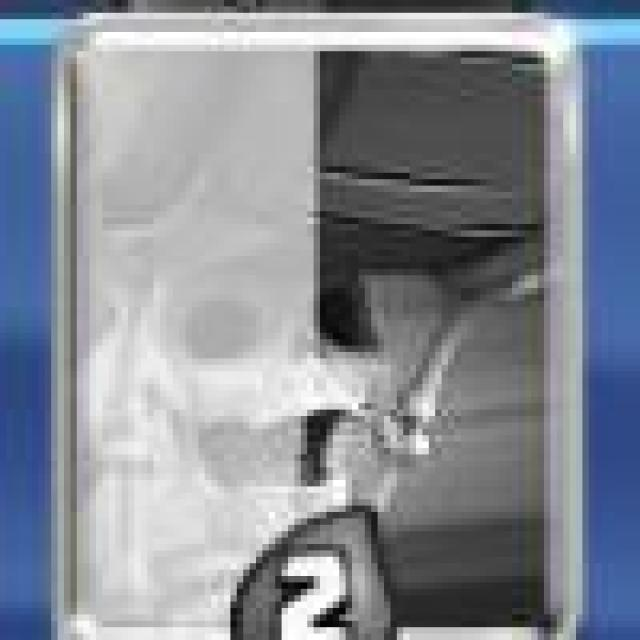Wall_Breakers: (61, 13, 568, 640)
